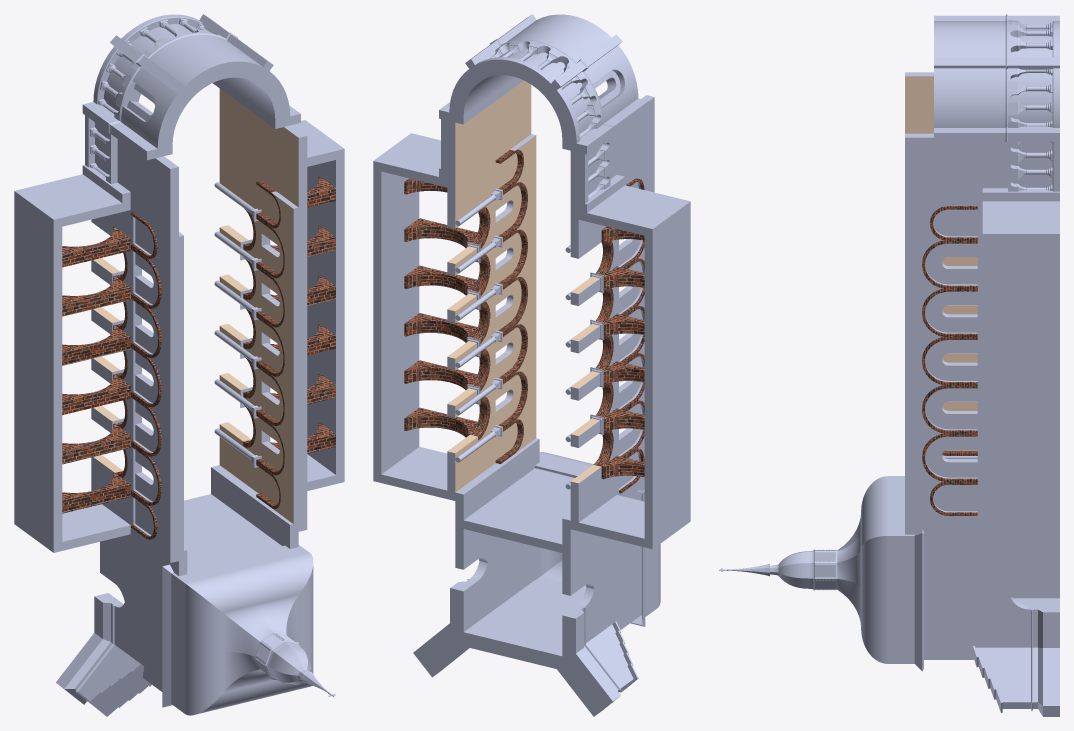
Rendered from main.gltf.
The picture shows the model from 3 angles, left to right: view 1: azimuth 30°, elevation 25°; view 2: azimuth 150°, elevation 25°; view 3: azimuth 270°, elevation 25°; orthographic projection. The views are drawn at different scales.
Parts seen in each view (by area): view 1: nef-1, tour-1, Abside-1, pilier-1, pilier droit-1; view 2: nef-1, tour-1, Abside-1, pilier-1, pilier droit-1; view 3: nef-1, tour-1, Abside-1, pilier-1, pilier droit-1.
Part boxes in pixels (x1,y1,x2,y2): nef-1: (14, 89, 344, 575); tour-1: (56, 494, 335, 716); Abside-1: (82, 14, 300, 160); pilier-1: (98, 18, 221, 120); pilier droit-1: (90, 127, 117, 183); nef-1: (373, 80, 690, 554); tour-1: (413, 452, 660, 716); Abside-1: (439, 14, 648, 154); pilier-1: (490, 40, 602, 139); pilier droit-1: (588, 137, 610, 198); nef-1: (905, 72, 1059, 560); tour-1: (719, 476, 1059, 716); Abside-1: (934, 14, 1059, 141); pilier-1: (1008, 20, 1052, 127); pilier droit-1: (1008, 141, 1052, 191).
Bounding box in the file's own units: 34 × 74.02 × 35.21.
Materials: 11 (8 with a texture image).
